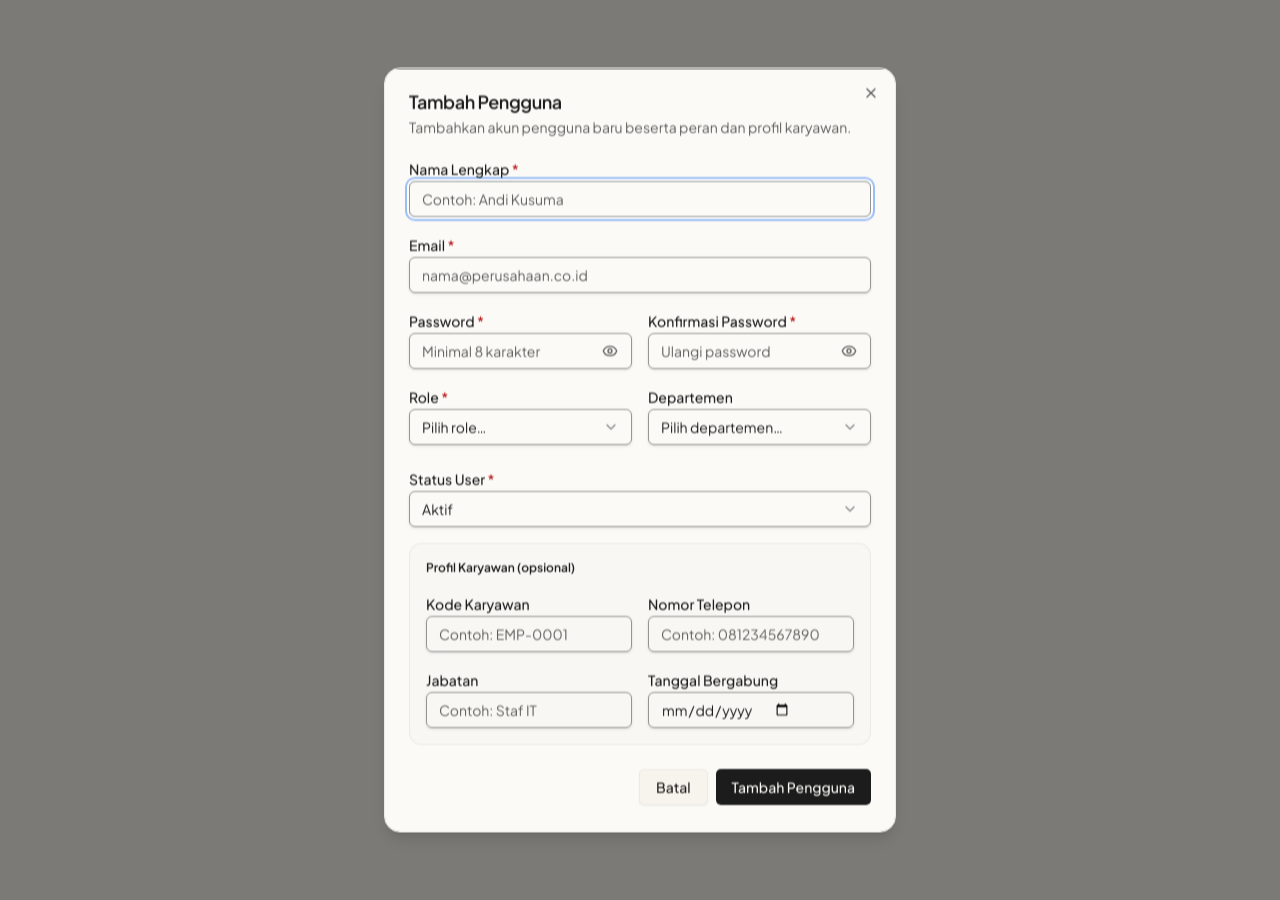
Scenario: UserFormDialog › create mode shows password, password confirmation and status fields and can toggle visibility
This screenshot has width=1280, height=900.
Expected: the field labelled "Nama Lengkap *" is shown, [409,180,871,216]
// Toggle password visibility
Click the button named "tampilkan password" at (610, 350), box [592,332,628,368]
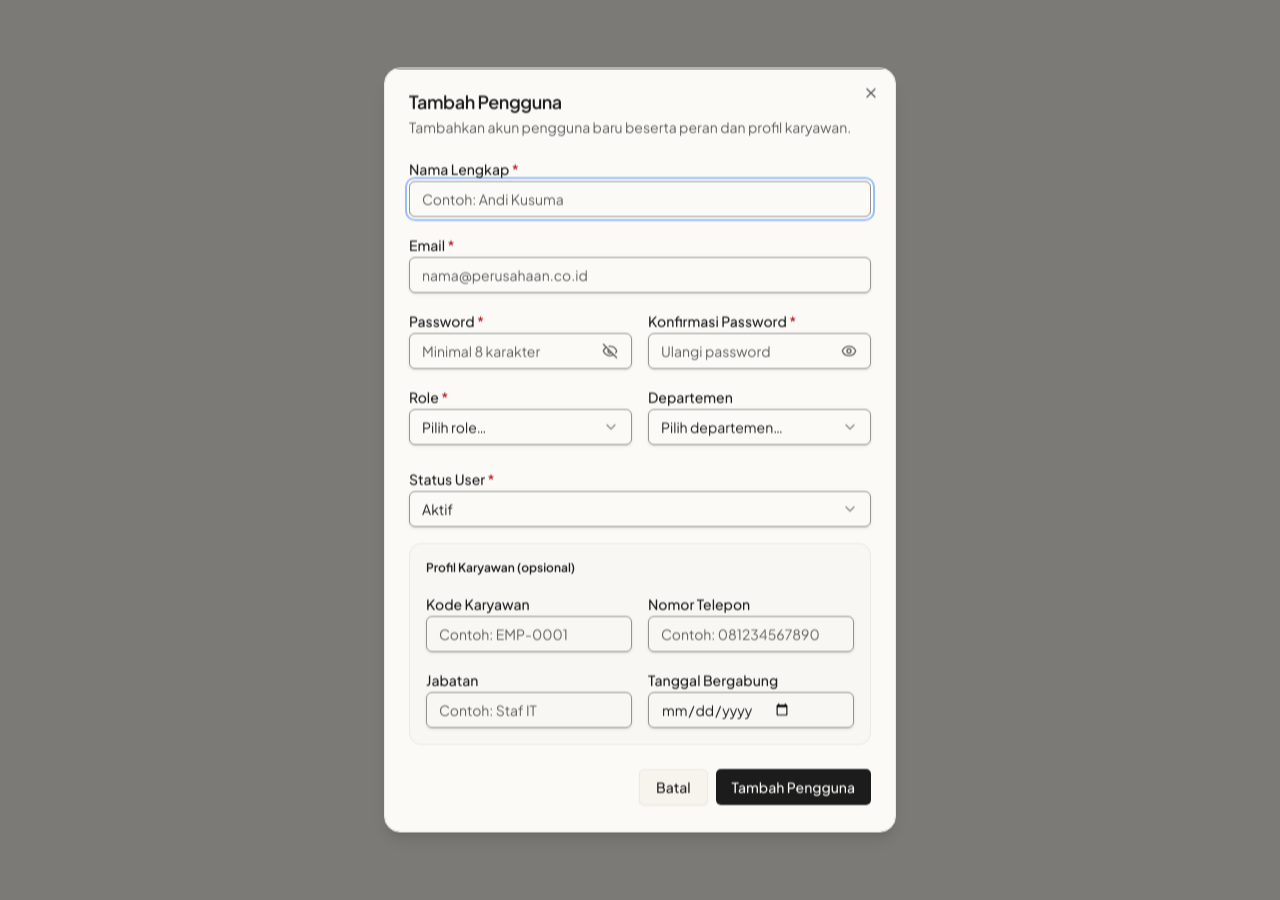
Now the button named "sembunyikan password" is shown, box [592,332,628,368]
// Toggle confirm password visibility
Click the button named "tampilkan konfirmasi password" at (849, 350), box [831,332,867,368]
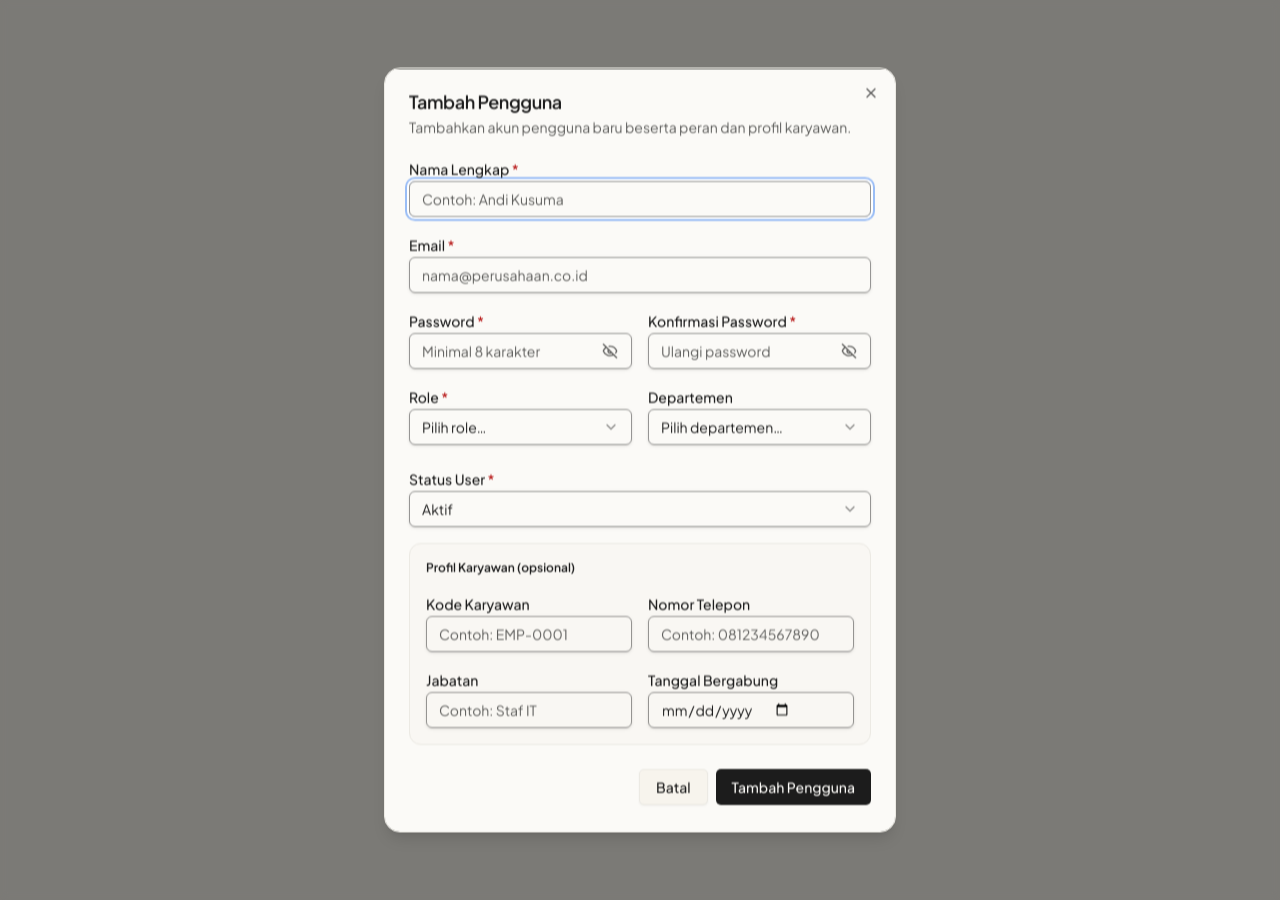
Expected: the text "Status User *" is shown, [409,470,495,488]
Now the button named "sembunyikan konfirmasi password" is shown, box [831,332,867,368]
